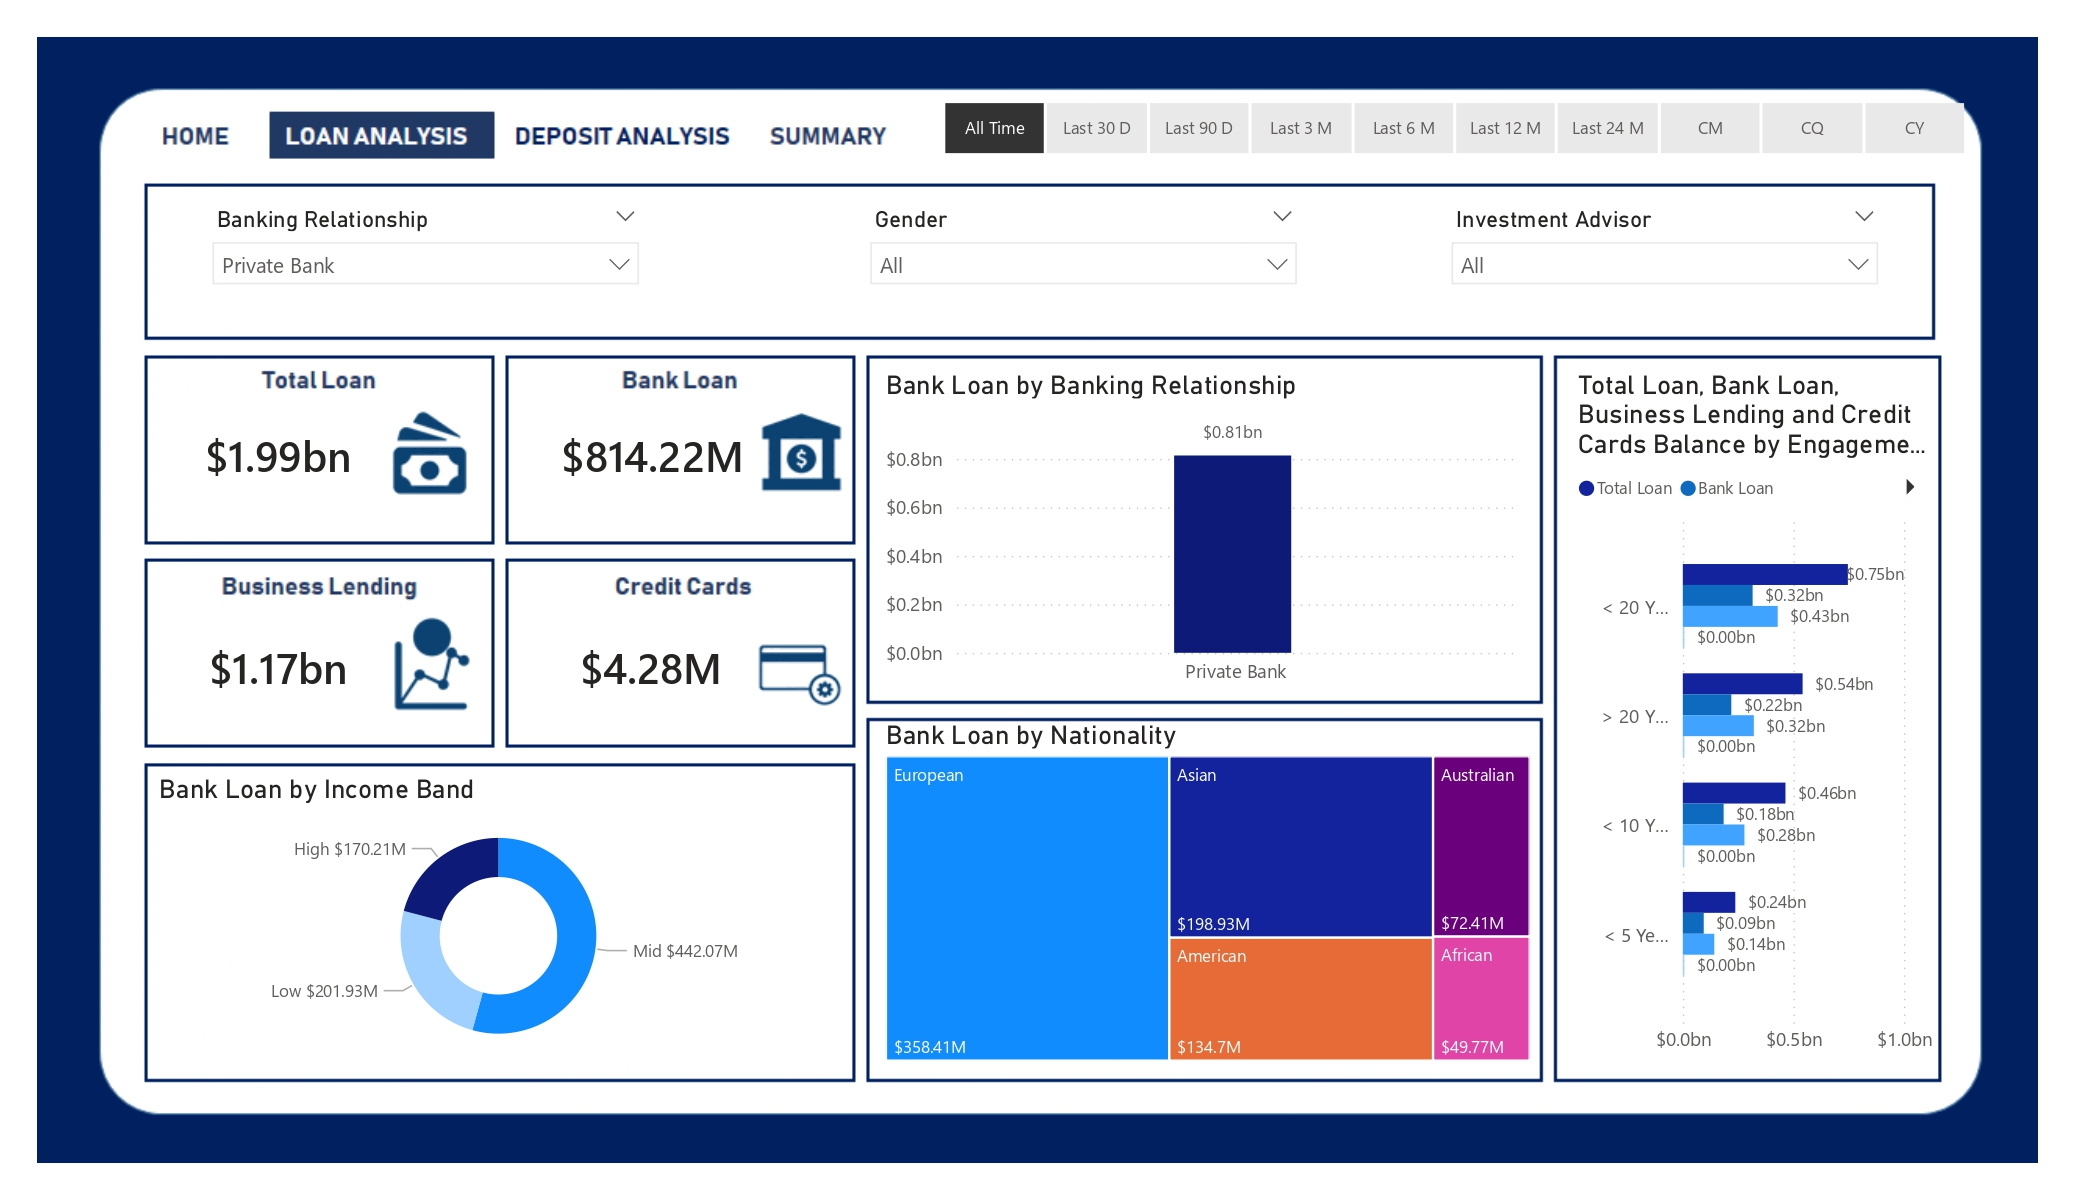

The dashboard page shown, as its layout file describes it:
{"tool":"powerbi","page":{"name":"Loan Analysis","canvas":[1280,720],"ordinal":1},"visuals":[{"type":"card","fields":{"Values":["DAX Measures.Total Loan"]},"box":[72.7,224,161.8,90.3],"z":0},{"type":"card","fields":{"Values":["DAX Measures.Bank Loan"]},"box":[307.2,224,172.4,89.1],"z":1000},{"type":"card","fields":{"Values":["DAX Measures.Credit Cards"]},"box":[307.2,360,171.2,89.1],"z":2000},{"type":"card","fields":{"Values":["DAX Measures.Business Lending"]},"box":[72.7,360,161.8,89.1],"z":3000},{"type":"slicer","fields":{"Values":["Banking Relationship.Banking Relationship"]},"box":[102.3,103.4,292.9,75.7],"z":4000},{"type":"slicer","fields":{"Values":["Gender.Gender"]},"box":[522.7,103.4,292.9,75.7],"z":5000},{"type":"slicer","fields":{"Values":["Investment Advisor.Investment Advisor"]},"box":[895,103.4,292.9,75.7],"z":6000},{"type":"donutChart","fields":{"Category":["Clients - Banking.Income Band"],"Y":["DAX Measures.Bank Loan"]},"box":[72.7,471.4,444.4,188.8],"z":7000},{"type":"clusteredBarChart","fields":{"Category":["Clients - Banking.Engagement Timeframe"],"Y":["DAX Measures.Total Loan","DAX Measures.Bank Loan","DAX Measures.Business Lending","DAX Measures.Credit Cards"]},"box":[981.5,212.2,236.9,447.9],"z":8000},{"type":"treemap","fields":{"Group":["Clients - Banking.Nationality"],"Values":["DAX Measures.Bank Loan"]},"box":[538.2,436.2,422.1,224],"z":9000},{"type":"lineClusteredColumnComboChart","fields":{"Y":["DAX Measures.Bank Loan"],"Category":["Banking Relationship.Banking Relationship"]},"box":[538.2,212.2,411.6,212.2],"z":10000},{"type":"slicer","fields":{"Values":["Period.Name"]},"box":[555.2,34.6,702.1,46.6],"z":11000},{"type":"actionButton","box":[72.8,44.2,58.5,31],"z":12000},{"type":"actionButton","box":[306.9,44.7,119.4,31],"z":13000},{"type":"actionButton","box":[471.6,44.2,83.6,31],"z":14000}]}

Visuals, with their boxes on the page's 1280x720 design canvas (x1, y1, x2, y2). These are canvas units, not pixel positions in the 2075x1200 screenshot, which may show the page scaled, cropped or inside an application window:
card - DAX Measures.Total Loan: crop(73, 224, 234, 314)
card - DAX Measures.Bank Loan: crop(307, 224, 480, 313)
card - DAX Measures.Credit Cards: crop(307, 360, 478, 449)
card - DAX Measures.Business Lending: crop(73, 360, 234, 449)
slicer - Banking Relationship.Banking Relationship: crop(102, 103, 395, 179)
slicer - Gender.Gender: crop(523, 103, 816, 179)
slicer - Investment Advisor.Investment Advisor: crop(895, 103, 1188, 179)
donutChart - Clients - Banking.Income Band x DAX Measures.Bank Loan: crop(73, 471, 517, 660)
clusteredBarChart - Clients - Banking.Engagement Timeframe x DAX Measures.Total Loan: crop(982, 212, 1218, 660)
treemap - Clients - Banking.Nationality x DAX Measures.Bank Loan: crop(538, 436, 960, 660)
lineClusteredColumnComboChart - DAX Measures.Bank Loan x Banking Relationship.Banking Relationship: crop(538, 212, 950, 424)
slicer - Period.Name: crop(555, 35, 1257, 81)
actionButton: crop(73, 44, 131, 75)
actionButton: crop(307, 45, 426, 76)
actionButton: crop(472, 44, 555, 75)
